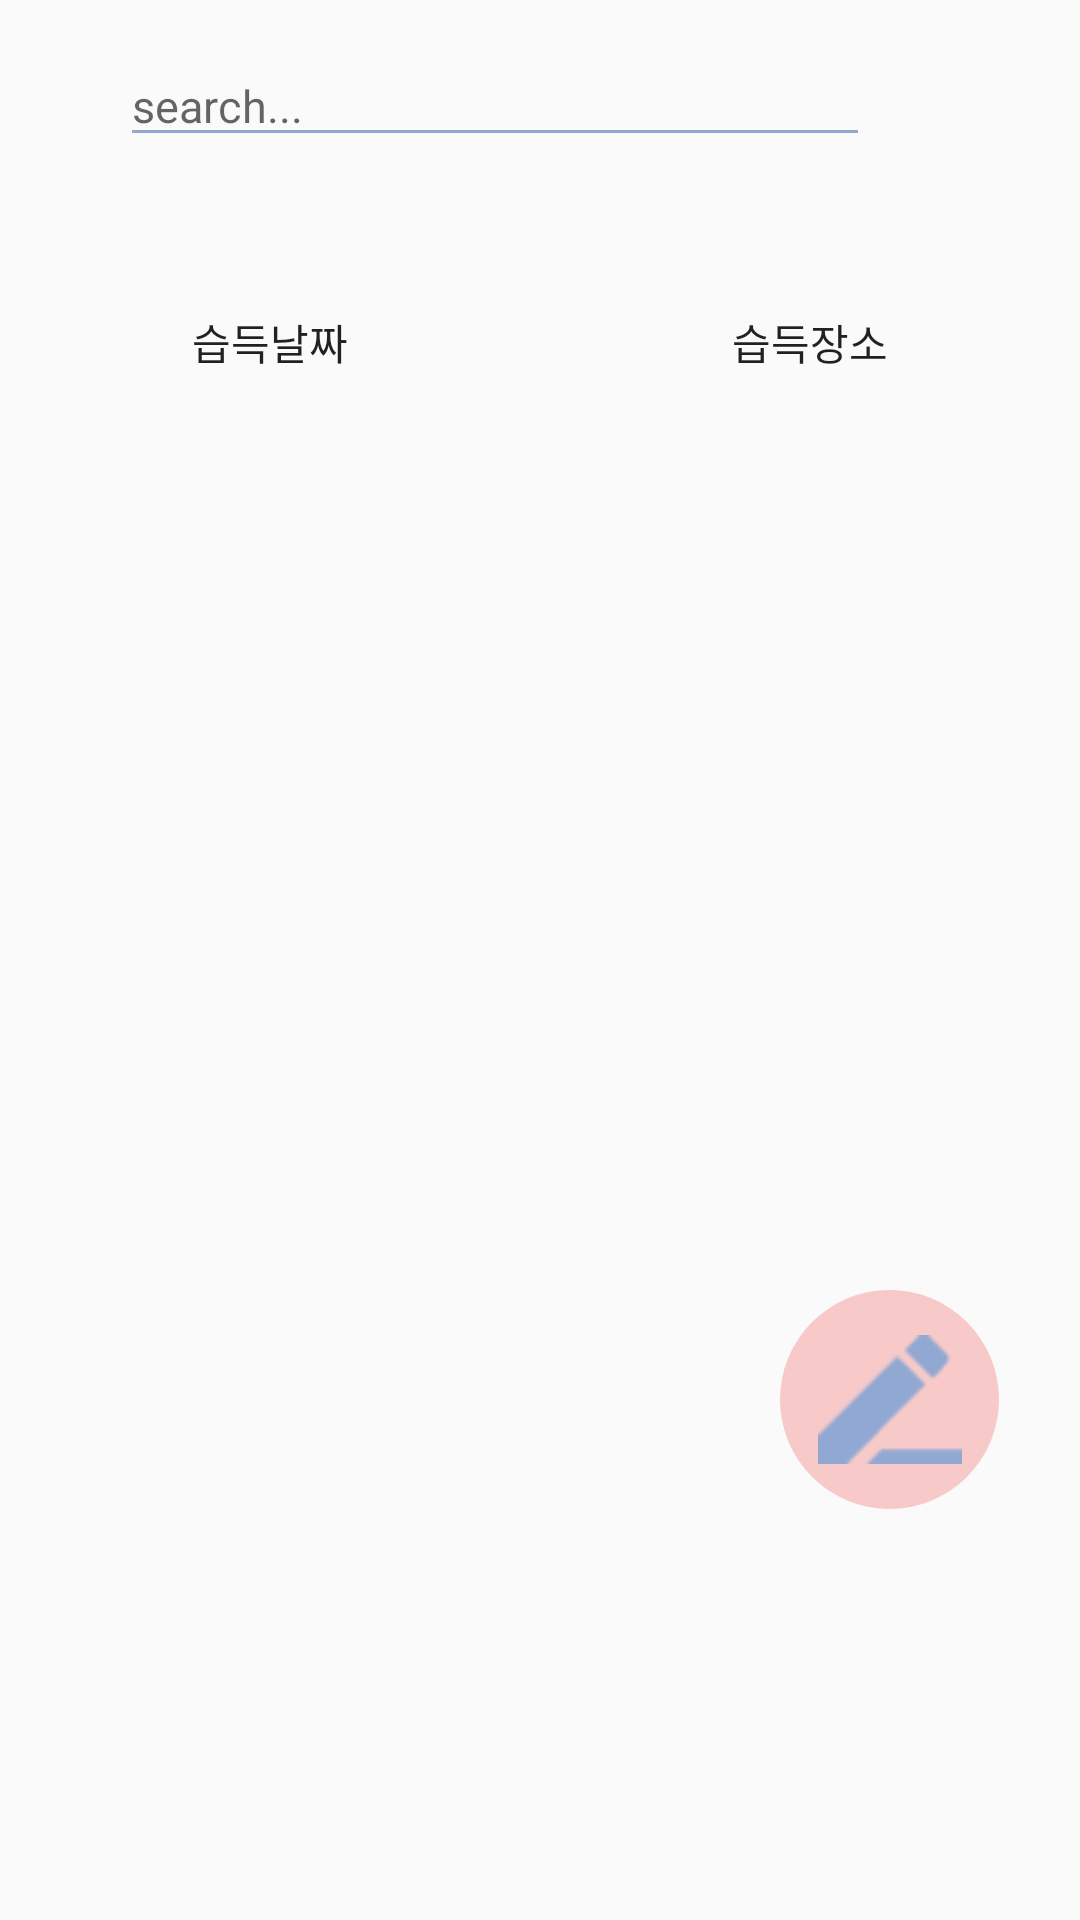

Named icons in this screenshot (1080px x 1920px) and their centers, (x,y):
pencil: (889,1399)
